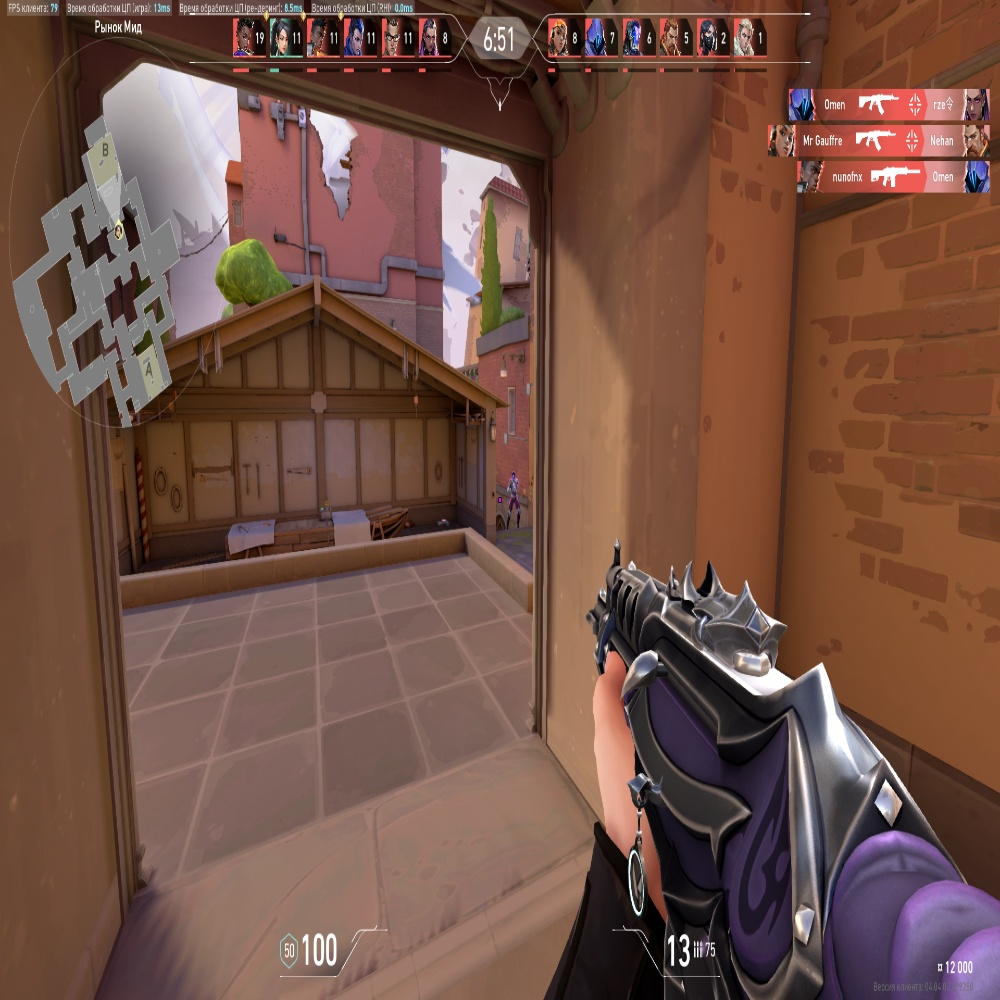body: (509, 481, 519, 503)
head: (511, 472, 517, 479)
